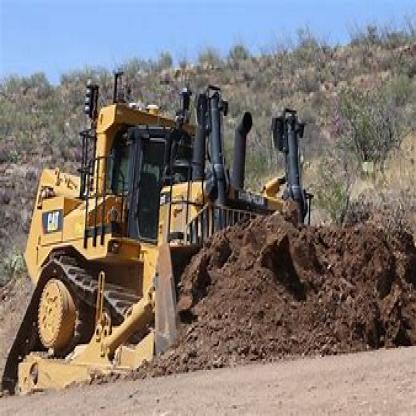bull_dozer/loader/grader: (18, 81, 332, 399)
